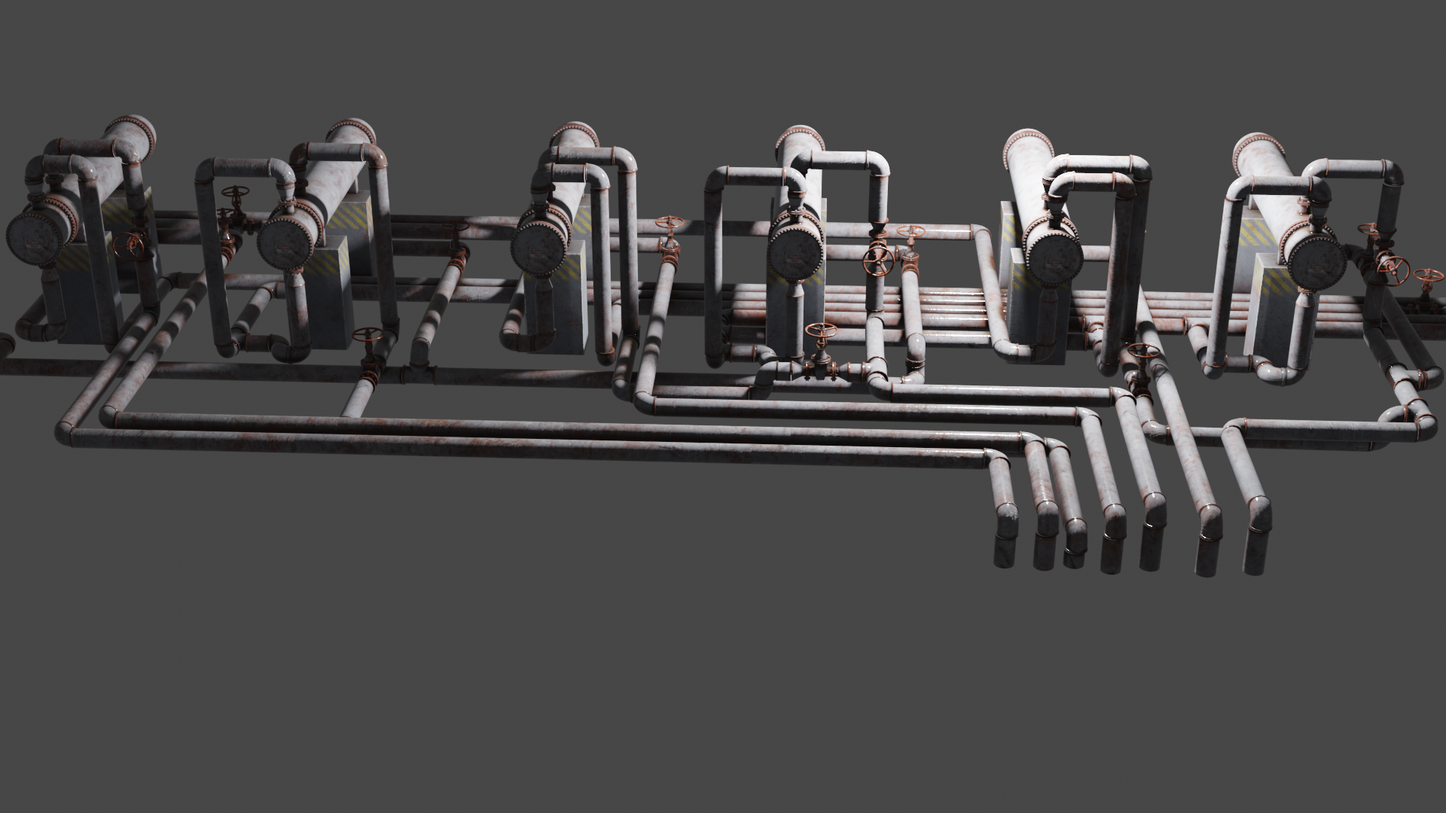HE_1: (7, 106, 157, 263)
HE_2: (263, 116, 379, 272)
HE_3: (514, 114, 597, 273)
HE_4: (768, 118, 823, 281)
HE_5: (998, 127, 1083, 280)
HE_6: (1227, 128, 1348, 291)
